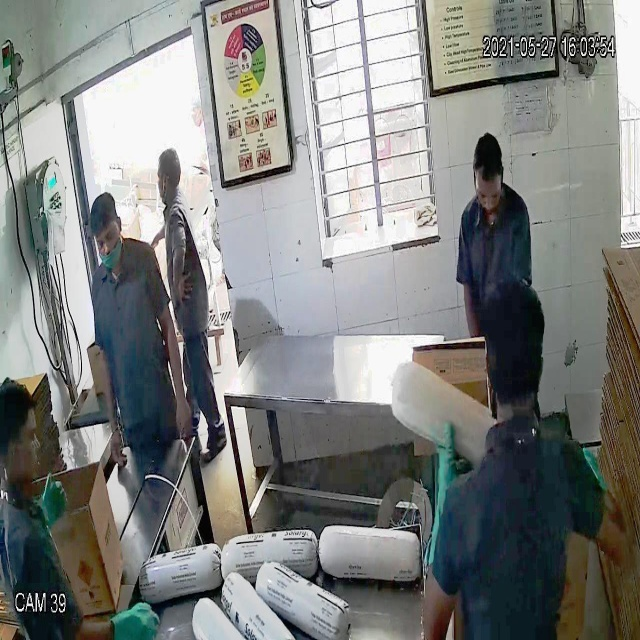Sin_gafas: (91, 226, 126, 256), (470, 184, 508, 209)
